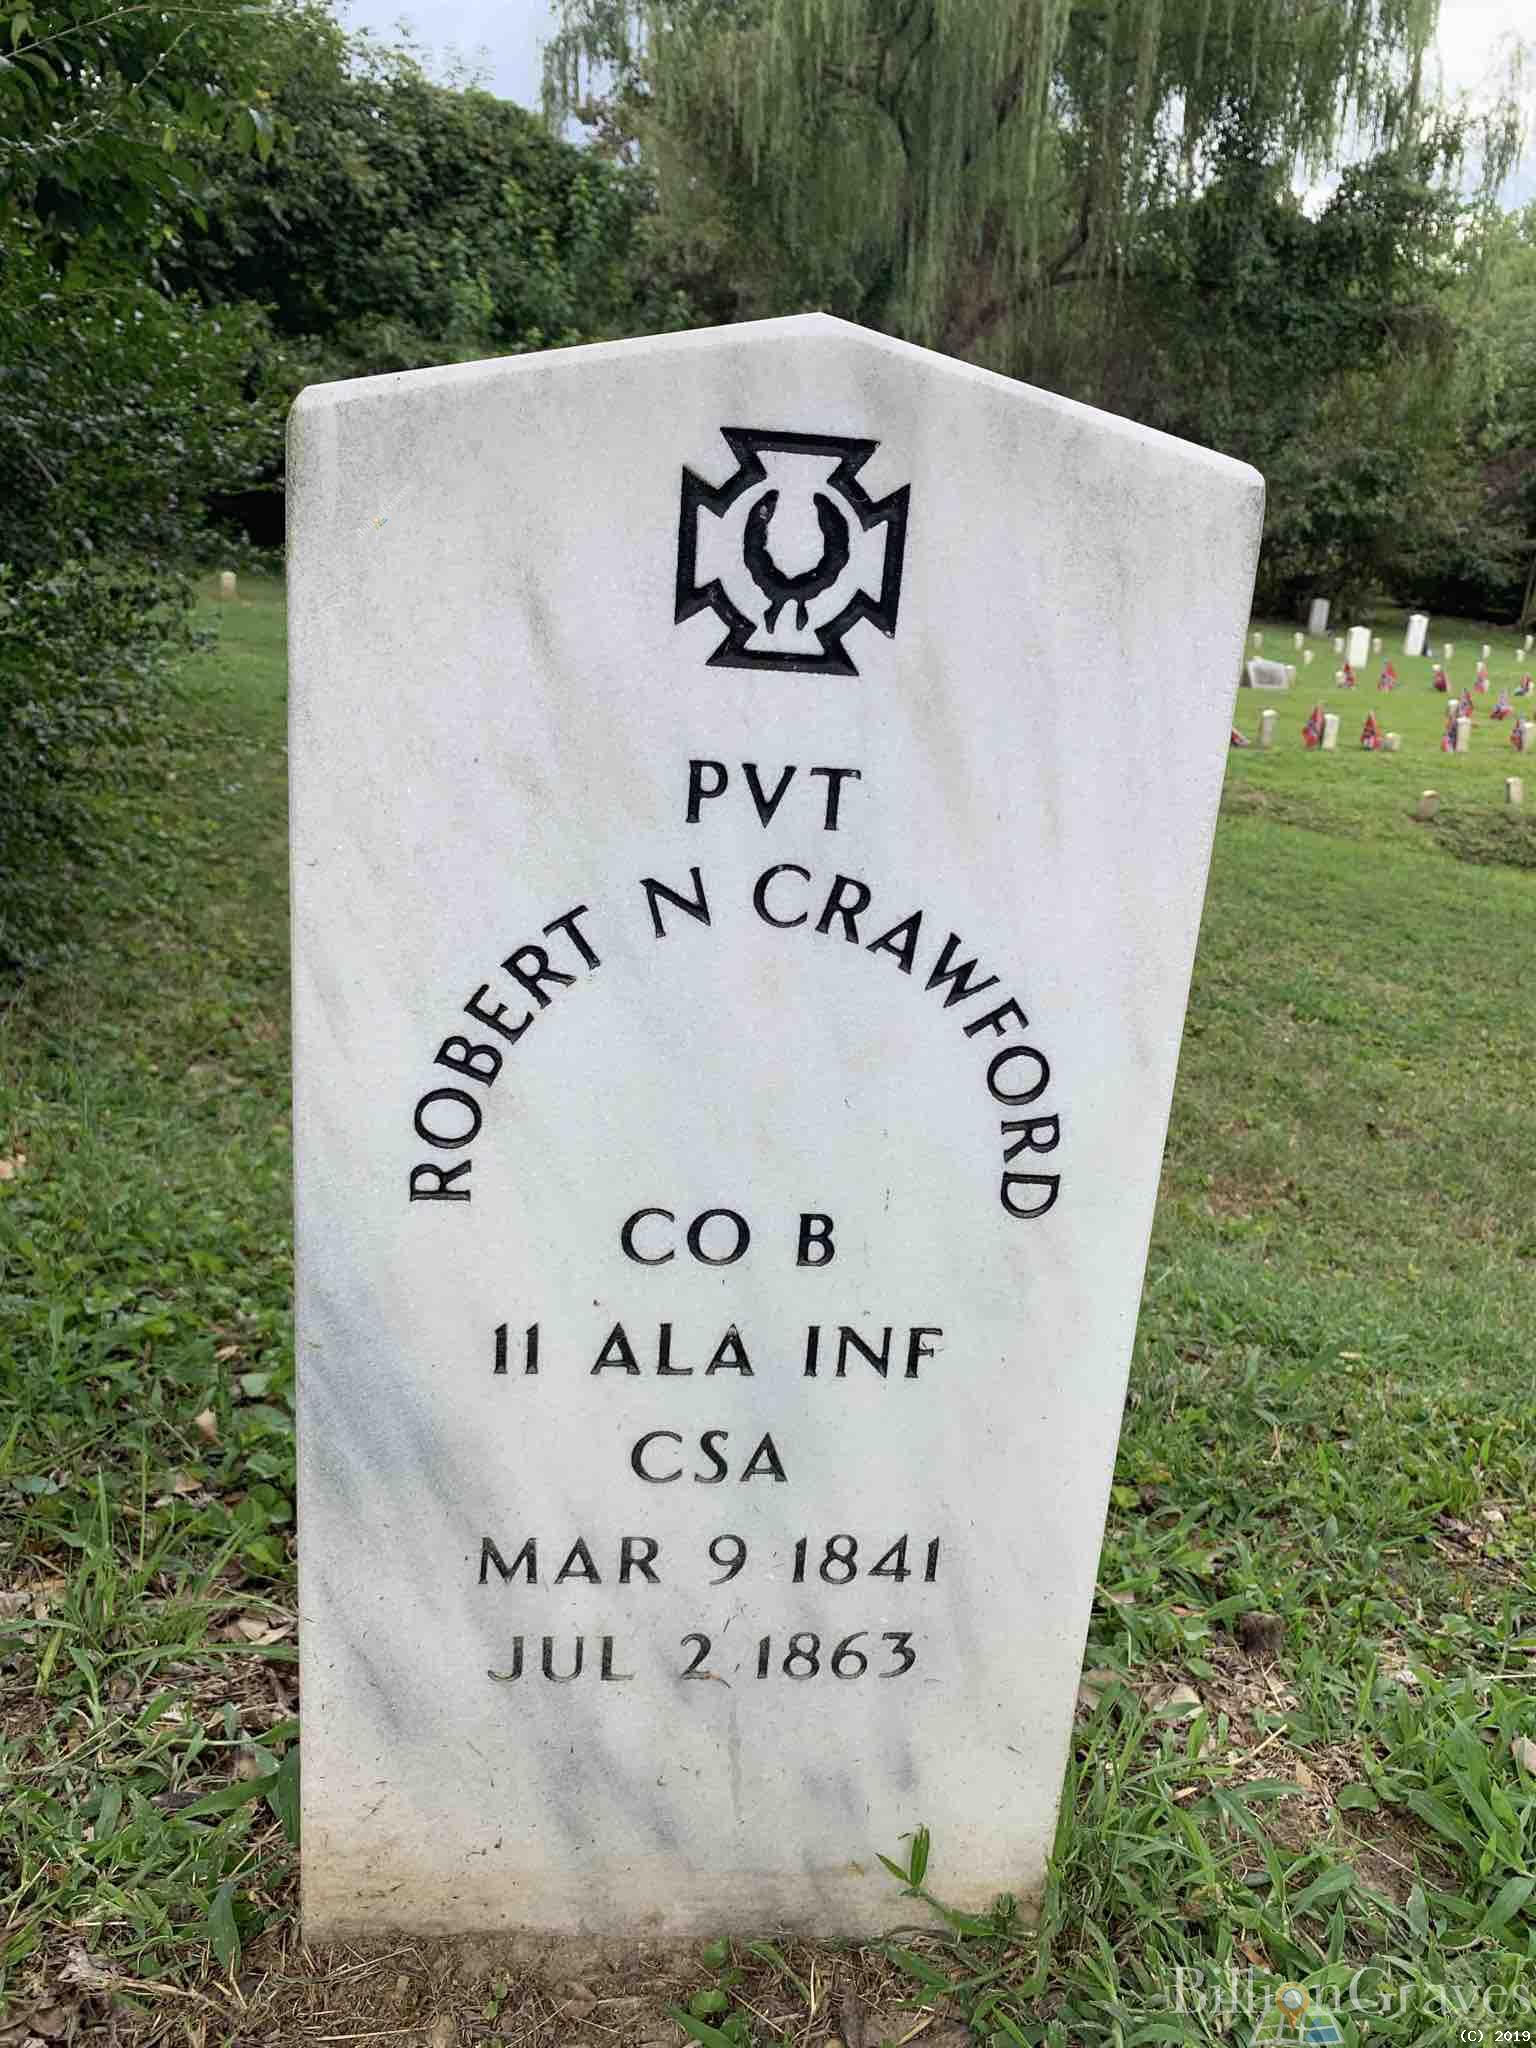military: (227, 316, 1270, 1938)
